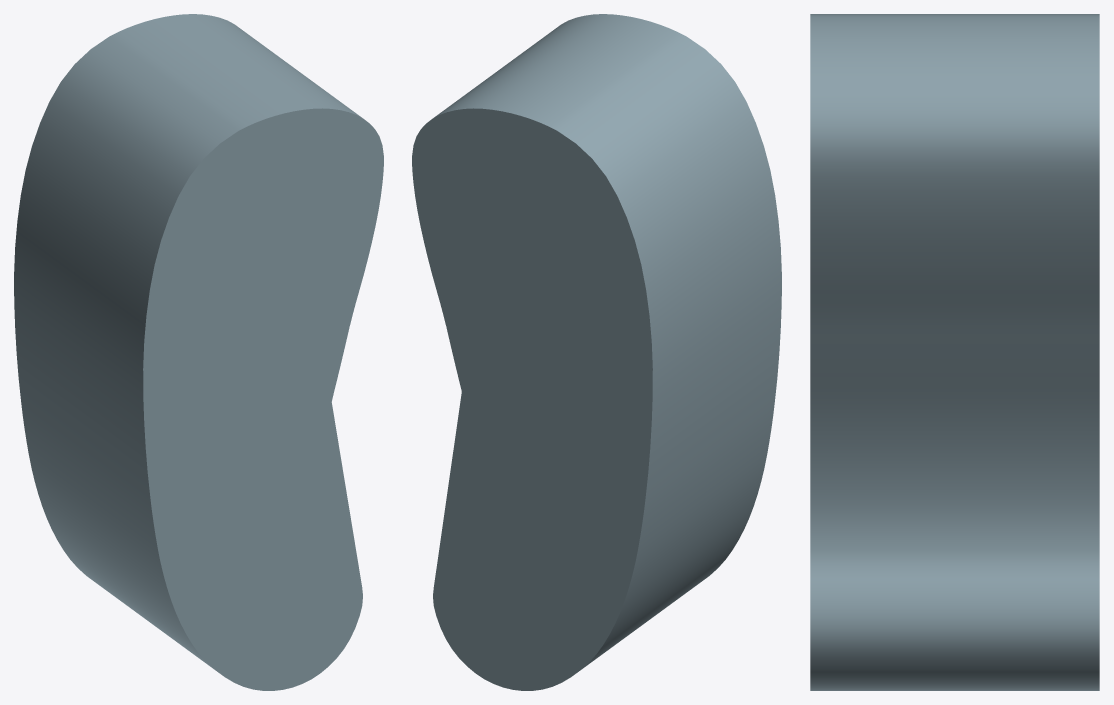
The model's file is small-l.fbx.
3 renders of one model, left to right at view 1: azimuth 30°, elevation 25°; view 2: azimuth 150°, elevation 25°; view 3: azimuth 270°, elevation 25°, orthographic. The views are drawn at different scales.
Parts seen in each view (by area): view 1: small_L; view 2: small_L; view 3: small_L.
Part boxes in pixels (box(x1,y1,x2,y2)): small_L: box(14, 14, 383, 690); small_L: box(412, 14, 781, 690); small_L: box(810, 14, 1099, 690).
Size of the model in its own units: 2.69 by 6.16 by 2.5.
